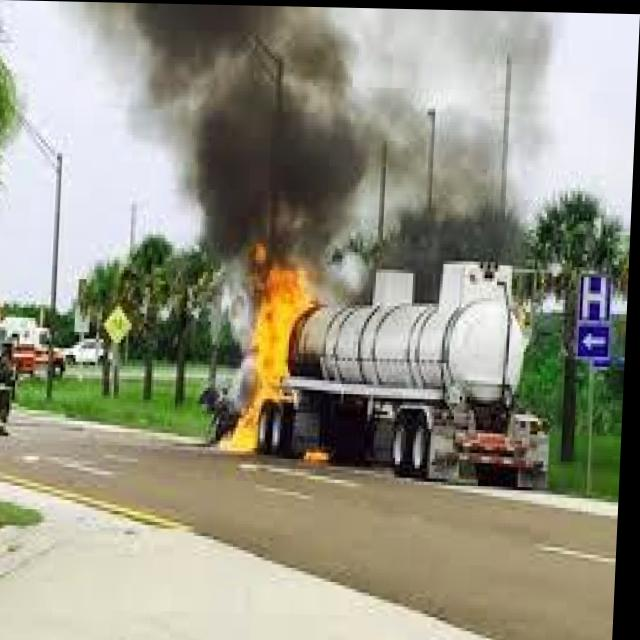fire: (219, 255, 337, 461)
